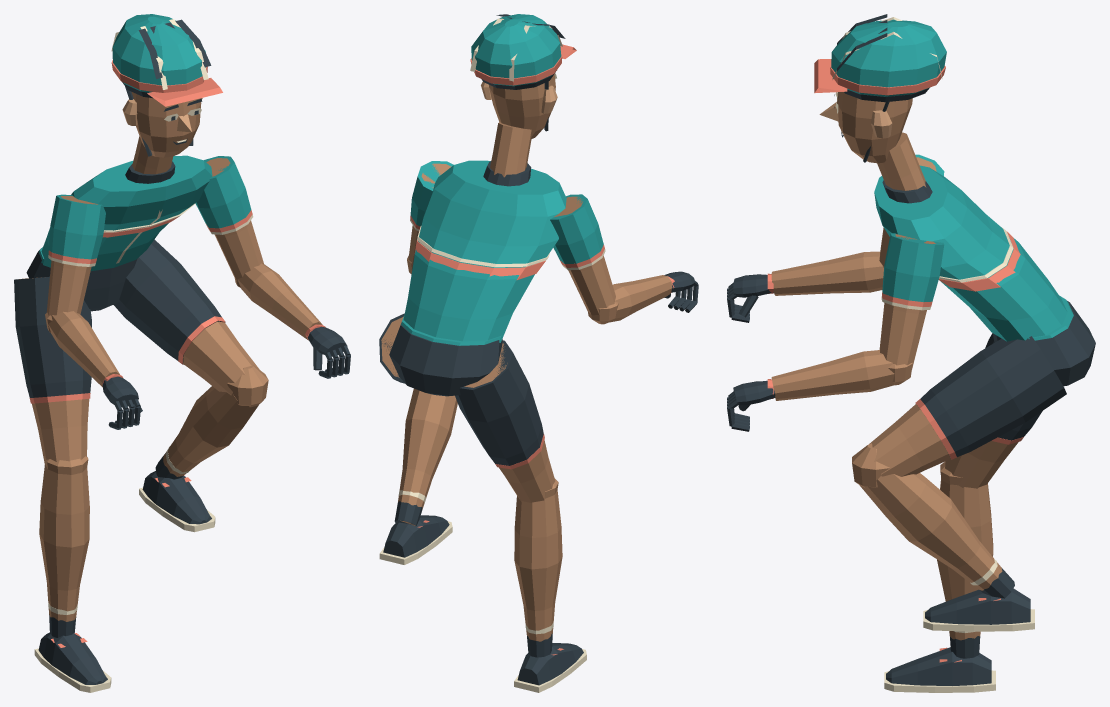
File: Cyclist_Stylized.fbx
3 views of the same model, side by side, from view 1: azimuth 30°, elevation 25°; view 2: azimuth 150°, elevation 25°; view 3: azimuth 270°, elevation 25° (orthographic). The views are drawn at different scales.
Parts seen in each view (by area): view 1: Upper_Leg_Left, Torso, Upper_Leg_Right, Helmet, Lower_Leg_Right, Upper_Arm_Right, Upper_Arm_Left, Lower_Leg_Left, Head, Foot_Right, Foot_Left, Lower_Arm_Left (+4 smaller); view 2: Torso, Upper_Leg_Right, Lower_Leg_Right, Helmet, Pelvis, Lower_Leg_Left, Upper_Arm_Right, Head, Foot_Left, Foot_Right, Lower_Arm_Right, Upper_Arm_Left (+2 smaller); view 3: Torso, Upper_Leg_Left, Helmet, Lower_Leg_Left, Upper_Arm_Left, Lower_Arm_Left, Foot_Right, Head, Foot_Left, Lower_Arm_Right, Lower_Leg_Right, Pelvis (+3 smaller).
Boxes of the visible parts, x1=… form: Upper_Leg_Left: x1=113, y1=239, x2=268, y2=407; Torso: x1=41, y1=136, x2=212, y2=271; Upper_Leg_Right: x1=14, y1=276, x2=91, y2=474; Helmet: x1=111, y1=14, x2=222, y2=156; Lower_Leg_Right: x1=39, y1=464, x2=89, y2=637; Upper_Arm_Right: x1=45, y1=194, x2=105, y2=332; Upper_Arm_Left: x1=195, y1=156, x2=264, y2=287; Lower_Leg_Left: x1=155, y1=386, x2=259, y2=479; Head: x1=122, y1=92, x2=202, y2=157; Foot_Right: x1=34, y1=632, x2=111, y2=692; Foot_Left: x1=139, y1=471, x2=215, y2=532; Lower_Arm_Left: x1=237, y1=263, x2=322, y2=340; Torso: x1=403, y1=122, x2=566, y2=342; Upper_Leg_Right: x1=455, y1=340, x2=558, y2=502; Lower_Leg_Right: x1=514, y1=490, x2=562, y2=657; Helmet: x1=470, y1=14, x2=576, y2=131; Pelvis: x1=389, y1=316, x2=502, y2=396; Lower_Leg_Left: x1=394, y1=388, x2=457, y2=525; Upper_Arm_Right: x1=550, y1=194, x2=618, y2=324; Head: x1=481, y1=70, x2=557, y2=138; Foot_Left: x1=379, y1=515, x2=452, y2=564; Foot_Right: x1=514, y1=643, x2=586, y2=692; Lower_Arm_Right: x1=608, y1=275, x2=672, y2=322; Upper_Arm_Left: x1=407, y1=161, x2=453, y2=274; Torso: x1=874, y1=132, x2=1067, y2=341; Upper_Leg_Left: x1=852, y1=336, x2=1066, y2=488; Helmet: x1=814, y1=14, x2=946, y2=162; Lower_Leg_Left: x1=859, y1=473, x2=1014, y2=598; Upper_Arm_Left: x1=879, y1=233, x2=944, y2=385; Lower_Arm_Left: x1=771, y1=350, x2=894, y2=400; Foot_Right: x1=884, y1=647, x2=995, y2=692; Head: x1=819, y1=92, x2=912, y2=163; Foot_Left: x1=923, y1=588, x2=1034, y2=631; Lower_Arm_Right: x1=771, y1=251, x2=883, y2=295; Lower_Leg_Right: x1=937, y1=478, x2=993, y2=658; Pelvis: x1=992, y1=295, x2=1095, y2=386.
Size of the model in its own units: 0.6695 by 1.76 by 0.8519.
